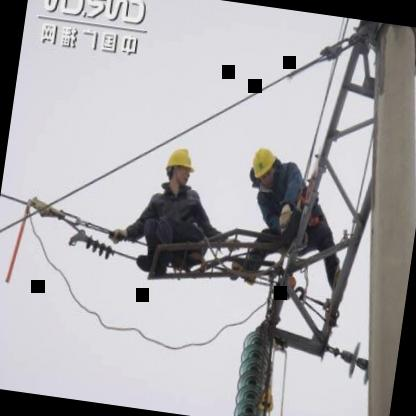helmet: (160, 143, 198, 194), (246, 140, 280, 192)
